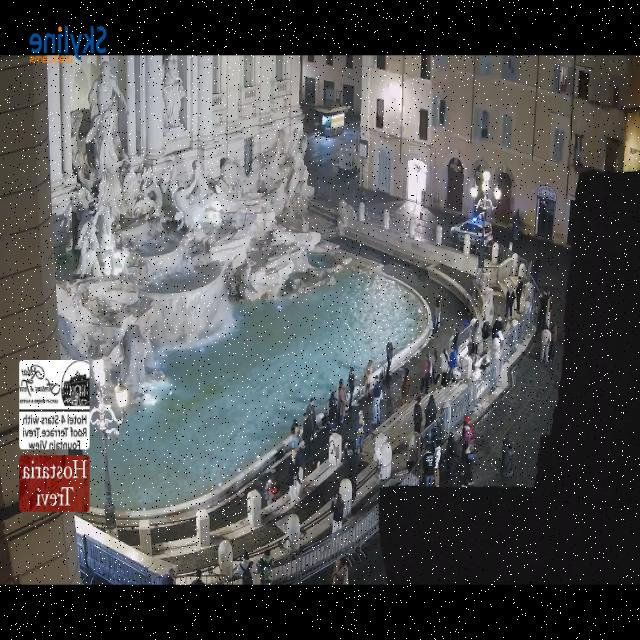person: (344, 444, 360, 501), (287, 449, 300, 505), (234, 552, 256, 584), (460, 416, 471, 475), (295, 412, 311, 452), (446, 432, 456, 487), (461, 443, 473, 487), (257, 550, 272, 584), (406, 432, 419, 471), (424, 395, 435, 441), (422, 445, 434, 487), (331, 493, 343, 534), (536, 289, 547, 331), (331, 557, 347, 584), (372, 376, 381, 424), (356, 411, 366, 454), (420, 355, 431, 394), (540, 326, 551, 363), (305, 398, 315, 438), (480, 320, 491, 355), (470, 320, 481, 355), (437, 349, 447, 387), (362, 360, 372, 397), (264, 479, 278, 505), (347, 367, 355, 412), (337, 379, 345, 424), (504, 283, 514, 319), (412, 395, 421, 434), (327, 392, 336, 431), (428, 349, 438, 384), (433, 439, 440, 487), (432, 293, 440, 334), (548, 322, 556, 362), (400, 369, 409, 404), (290, 419, 300, 449), (544, 289, 551, 327), (491, 316, 503, 338), (448, 350, 456, 382), (386, 337, 392, 378), (515, 277, 522, 312), (512, 209, 519, 241), (531, 256, 539, 284), (161, 569, 175, 584), (191, 570, 203, 584), (451, 329, 458, 351)
